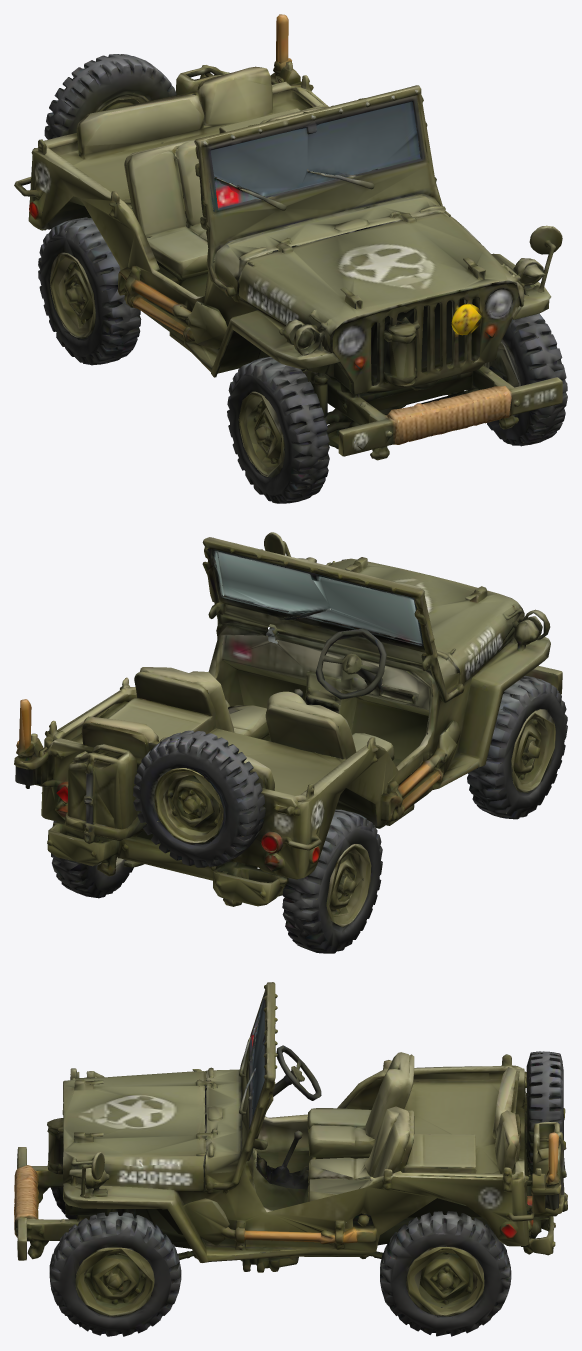
File: willys_jeep_mb.glb
3 views of the same model, one above another, from view 1: azimuth 30°, elevation 25°; view 2: azimuth 150°, elevation 25°; view 3: azimuth 270°, elevation 25° (orthographic). The views are drawn at different scales.
Parts seen in each view (by area): view 1: tripo_part_0, tripo_part_2, tripo_part_14, tripo_part_6, tripo_part_1, tripo_part_3, tripo_part_16, tripo_part_19, tripo_part_17, tripo_part_4, tripo_part_20, tripo_part_38 (+5 smaller); view 2: tripo_part_0, tripo_part_3, tripo_part_14, tripo_part_2, tripo_part_9, tripo_part_6, tripo_part_24, tripo_part_27, tripo_part_8, tripo_part_12, tripo_part_15, tripo_part_20 (+1 smaller); view 3: tripo_part_0, tripo_part_1, tripo_part_15, tripo_part_6, tripo_part_3, tripo_part_24, tripo_part_21, tripo_part_17, tripo_part_20, tripo_part_9, tripo_part_16, tripo_part_4 (+5 smaller).
Boxes of the visible parts, x1,y1,x2,y2 form: tripo_part_0: (14,66,551,394); tripo_part_2: (227,356,329,503); tripo_part_14: (38,217,141,365); tripo_part_6: (124,140,208,281); tripo_part_1: (484,313,567,446); tripo_part_3: (44,54,176,139); tripo_part_16: (387,386,512,444); tripo_part_19: (337,383,395,460); tripo_part_17: (472,364,562,429); tripo_part_4: (301,369,472,411); tripo_part_20: (270,14,301,84); tripo_part_38: (483,284,518,322); tripo_part_0: (35,537,550,906); tripo_part_3: (133,730,265,867); tripo_part_14: (282,809,382,953); tripo_part_2: (467,675,567,819); tripo_part_9: (67,744,137,828); tripo_part_6: (265,695,394,760); tripo_part_24: (107,697,214,741); tripo_part_27: (134,671,217,720); tripo_part_8: (315,628,386,699); tripo_part_12: (168,775,220,831); tripo_part_15: (51,821,133,898); tripo_part_20: (14,699,51,788); tripo_part_0: (47,982,567,1262); tripo_part_1: (49,1211,181,1336); tripo_part_15: (380,1211,511,1336); tripo_part_6: (307,1052,414,1158); tripo_part_3: (522,1051,563,1174); tripo_part_24: (402,1134,476,1173); tripo_part_21: (221,1220,357,1249); tripo_part_17: (15,1214,96,1260); tripo_part_20: (526,1132,561,1213); tripo_part_9: (532,1121,566,1203); tripo_part_16: (14,1165,39,1237); tripo_part_4: (161,1217,420,1272).
Size of the model in its own units: 0.5426 by 0.5042 by 0.9972.
1 material, 1 textured.
